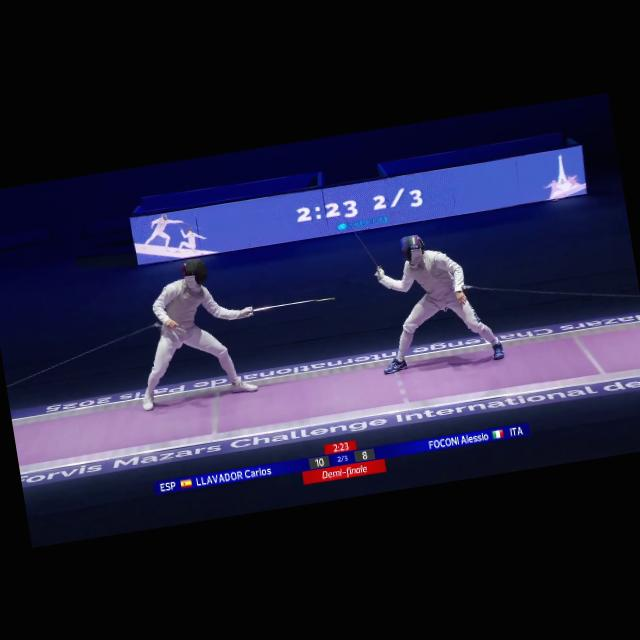blade: (340, 205, 386, 284), (242, 290, 348, 321)
